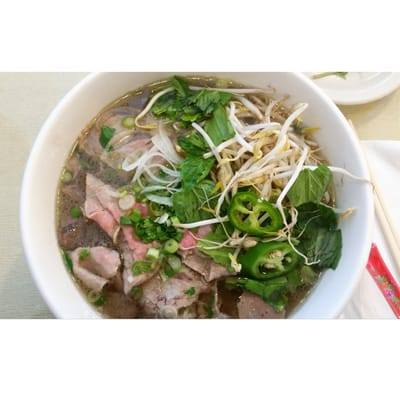sushi: (37, 72, 371, 317)
